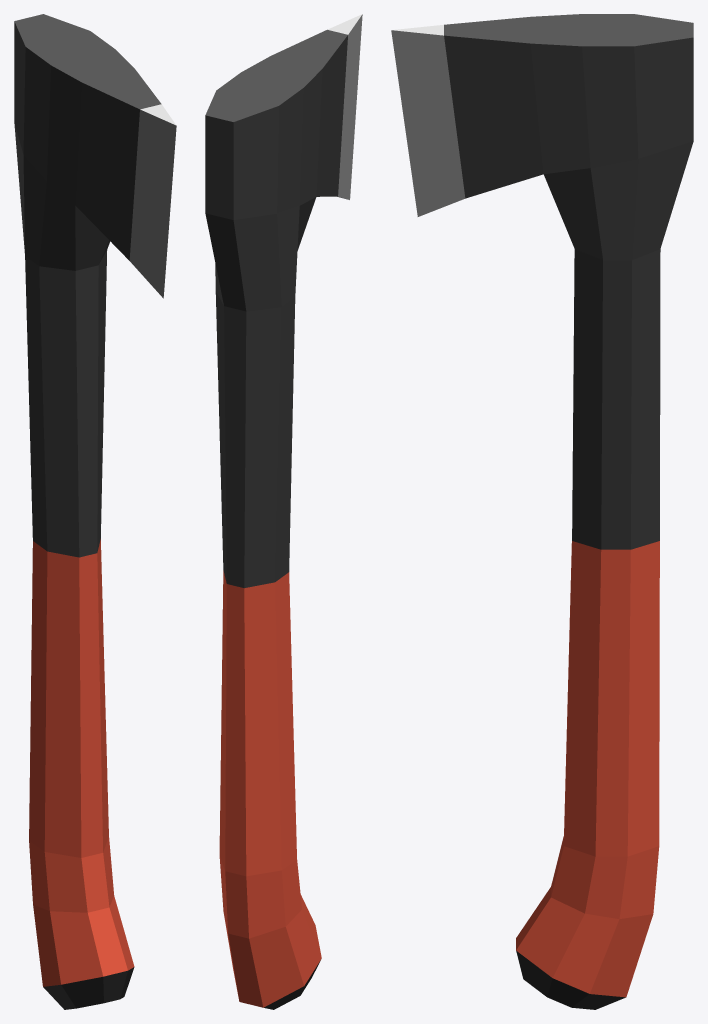
The model's file is axe_1.fbx.
3 renders of one model, left to right at view 1: azimuth 30°, elevation 25°; view 2: azimuth 150°, elevation 25°; view 3: azimuth 270°, elevation 25°, orthographic. The views are drawn at different scales.
Visible parts, largest first — view 1: axe_1; view 2: axe_1; view 3: axe_1.
Boxes of the visible parts, x1,y1,x2,y2 form: axe_1: (14,14,176,1009); axe_1: (205,14,362,1009); axe_1: (391,14,693,1009).
Size of the model in its own units: 6.55 by 81.27 by 22.84.
1 material, 1 textured.
